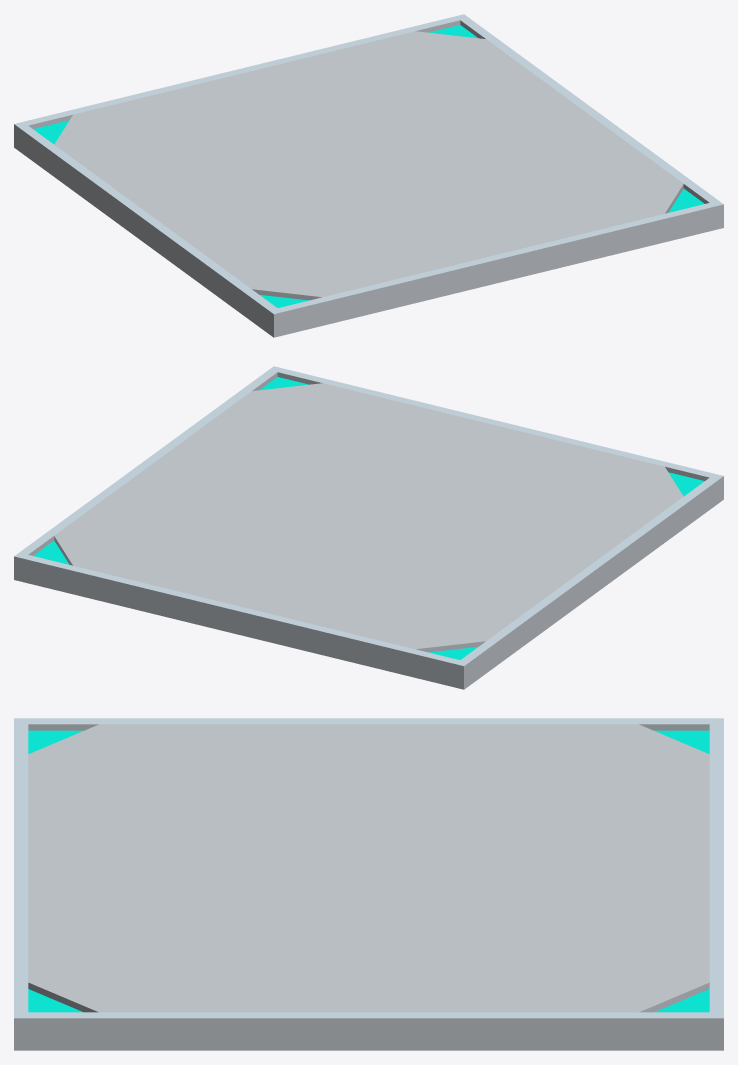
File: floor-07.fbx
The picture shows the model from 3 angles, top to bottom: view 1: azimuth 30°, elevation 25°; view 2: azimuth 150°, elevation 25°; view 3: azimuth 270°, elevation 25°; orthographic projection. The views are drawn at different scales.
Parts seen in each view (by area): view 1: floor-07; view 2: floor-07; view 3: floor-07.
Boxes of the visible parts, left/top/right/bottom form: floor-07: left=14, top=14, right=723, bottom=337; floor-07: left=14, top=366, right=723, bottom=689; floor-07: left=14, top=718, right=723, bottom=1050.
Size of the model in its own units: 100 by 5 by 100.
